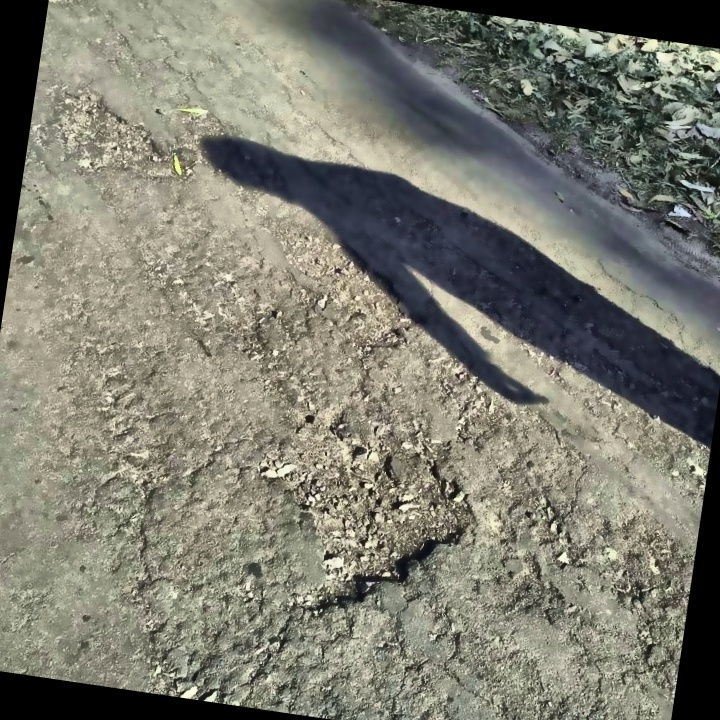pothole: (241, 409, 488, 635), (249, 215, 427, 356), (48, 89, 173, 179)
